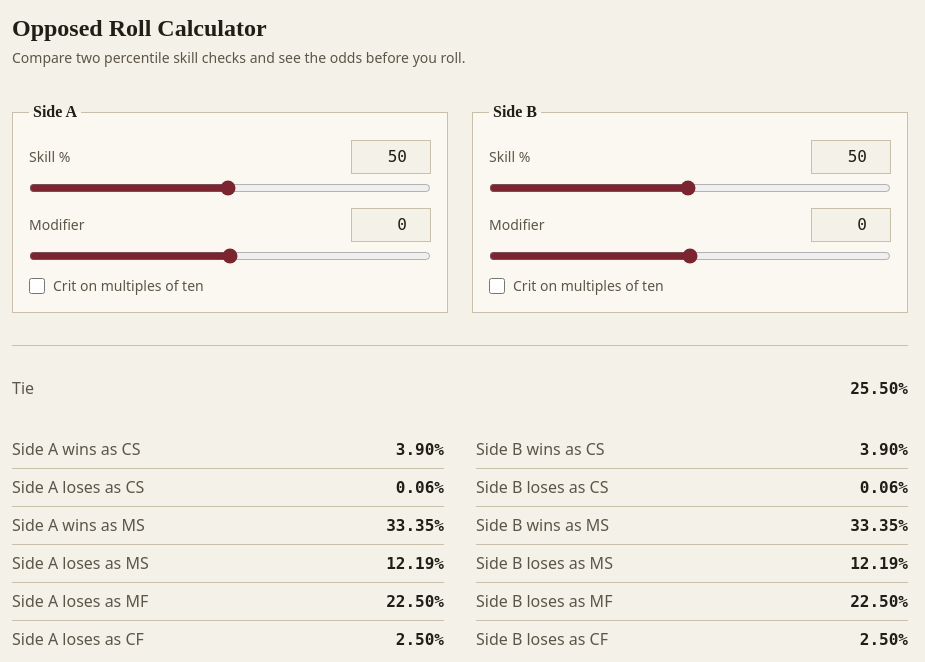
Scenario: OpposedRollCalculator › shows a validation message instead of results when input is invalid
Replace the text in the 1st number field labelled "Skill %" with "0" at {"x": 391, "y": 157}, box [351, 140, 431, 174]
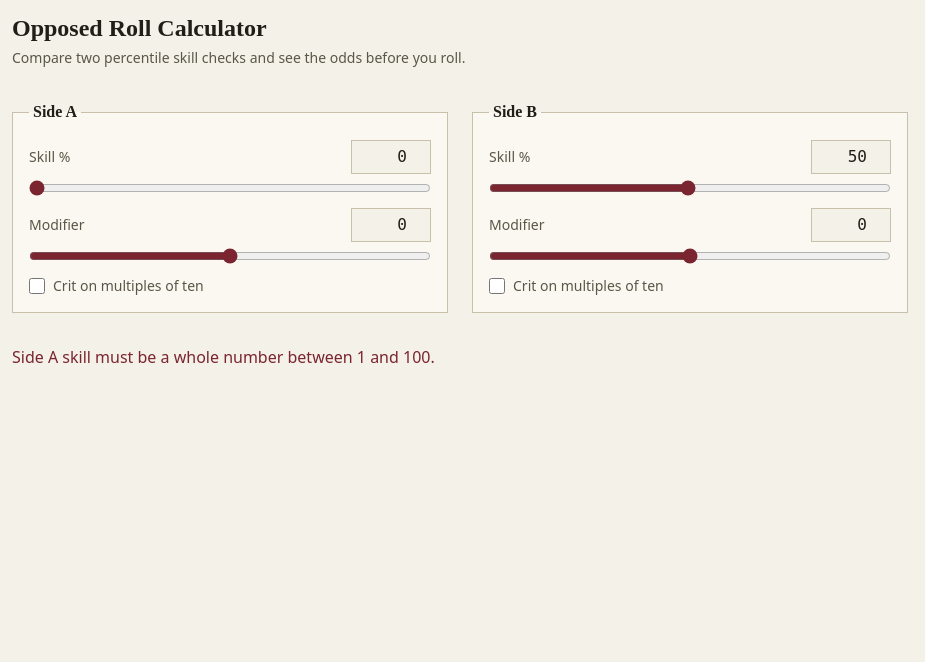
Now the message shows "Side A skill must be", box [12, 346, 435, 368]
